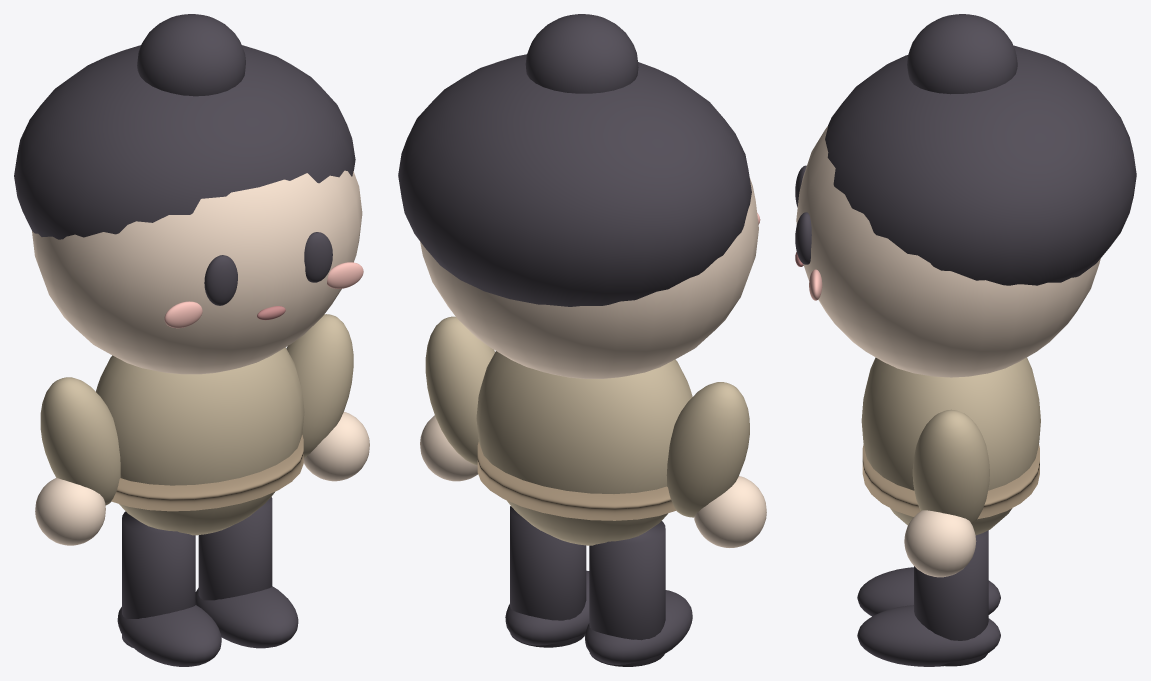
File: r_villager.fbx
3 renders of one model, left to right at view 1: azimuth 30°, elevation 25°; view 2: azimuth 150°, elevation 25°; view 3: azimuth 270°, elevation 25°, orthographic. The views are drawn at different scales.
Parts seen in each view (by area): view 1: hair, head_mesh, body, arm_mesh.001, bun, leg, arm_mesh, leg.001, belt, shoe, shoe.001, hand_mesh.001 (+5 smaller); view 2: hair, body, head_mesh, arm_mesh.001, leg, bun, leg.001, arm_mesh, belt, hand_mesh.001, shoe, shoe.001 (+1 smaller); view 3: hair, head_mesh, body, bun, arm_mesh, leg.001, shoe.001, hand_mesh, belt, shoe, eye.001.
Part boxes in pixels (left/top/right/bottom): hair: left=14, top=45, right=355, bottom=239; head_mesh: left=32, top=170, right=362, bottom=374; body: left=96, top=347, right=304, bottom=535; arm_mesh.001: left=40, top=377, right=120, bottom=505; bun: left=137, top=14, right=245, bottom=96; leg: left=122, top=511, right=195, bottom=647; arm_mesh: left=286, top=314, right=353, bottom=457; leg.001: left=198, top=497, right=272, bottom=600; belt: left=111, top=435, right=303, bottom=511; shoe: left=117, top=605, right=221, bottom=666; shoe.001: left=195, top=586, right=298, bottom=648; hand_mesh.001: left=35, top=478, right=105, bottom=545; hair: left=398, top=54, right=751, bottom=306; body: left=476, top=351, right=692, bottom=545; head_mesh: left=420, top=178, right=758, bottom=378; arm_mesh.001: left=666, top=382, right=749, bottom=517; leg: left=589, top=521, right=665, bottom=666; bun: left=525, top=14, right=638, bottom=93; leg.001: left=510, top=506, right=586, bottom=647; arm_mesh: left=425, top=316, right=495, bottom=465; belt: left=477, top=441, right=676, bottom=520; hand_mesh.001: left=694, top=476, right=766, bottom=547; shoe: left=585, top=590, right=692, bottom=664; shoe.001: left=505, top=570, right=589, bottom=645; hair: left=825, top=45, right=1136, bottom=285; head_mesh: left=796, top=126, right=1100, bottom=377; body: left=861, top=357, right=1040, bottom=535; bun: left=907, top=14, right=1017, bottom=94; arm_mesh: left=912, top=409, right=989, bottom=524; leg.001: left=914, top=530, right=988, bottom=666; shoe.001: left=857, top=605, right=1000, bottom=666; hand_mesh: left=904, top=510, right=976, bottom=577; belt: left=862, top=444, right=1039, bottom=519; shoe: left=857, top=567, right=1000, bottom=616; eye.001: left=795, top=212, right=811, bottom=264.
Bounding box in the file's own units: 0.688 × 1.24 × 0.617.
